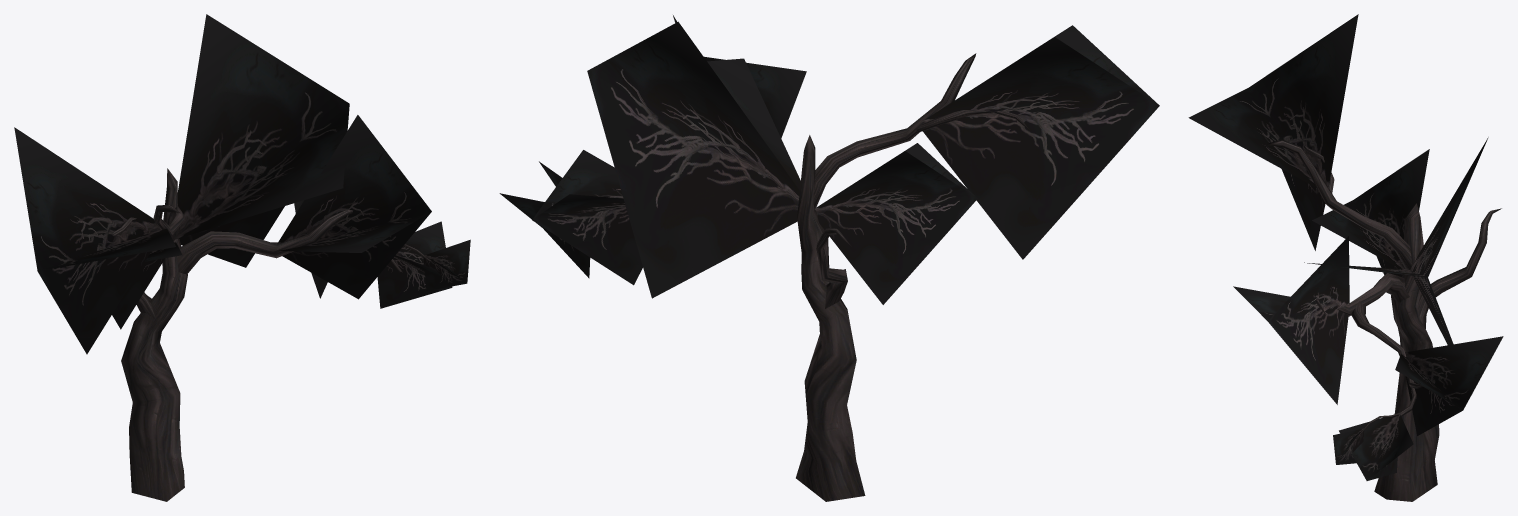
File: wintergrasp_tree_04.obj
3 views of the same model, side by side, from view 1: azimuth 30°, elevation 25°; view 2: azimuth 150°, elevation 25°; view 3: azimuth 270°, elevation 25° (orthographic). The views are drawn at different scales.
Parts seen in each view (by area): view 1: Geoset1, Geoset0; view 2: Geoset1, Geoset0; view 3: Geoset1, Geoset0.
Part boxes in pixels (x1,y1,x2,y2): Geoset1: (14, 14, 470, 354); Geoset0: (113, 168, 430, 501); Geoset1: (499, 15, 1159, 304); Geoset0: (796, 53, 1030, 501); Geoset1: (1188, 14, 1503, 480); Geoset0: (1265, 139, 1501, 501).
Size of the model in its own units: 58.05 by 47.53 by 33.76.
Materials: 2 (2 with a texture image).
